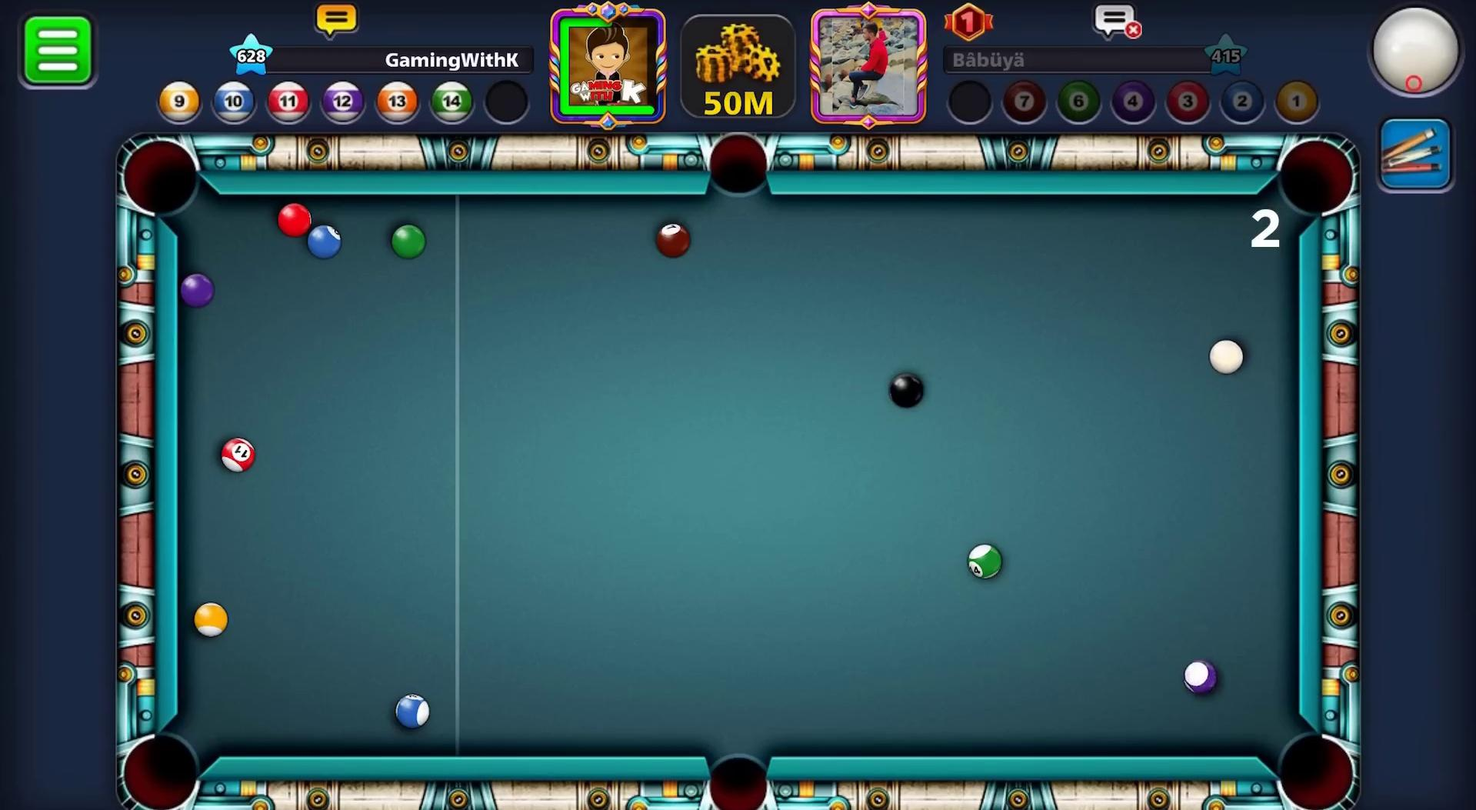Ball: (265, 198, 320, 247), (296, 222, 346, 268), (645, 216, 697, 260), (1179, 652, 1224, 698), (883, 369, 930, 413), (965, 538, 1006, 586), (177, 265, 217, 313), (391, 692, 430, 731), (192, 601, 229, 640), (387, 222, 425, 259), (218, 433, 254, 472)
Hole: (111, 123, 221, 232), (102, 718, 221, 809), (1261, 126, 1361, 232), (1260, 715, 1363, 809), (692, 123, 787, 215), (691, 740, 783, 809)
Play_Area: (178, 195, 1293, 757)
Spin: (1360, 0, 1475, 116)
White: (1206, 332, 1248, 382)
